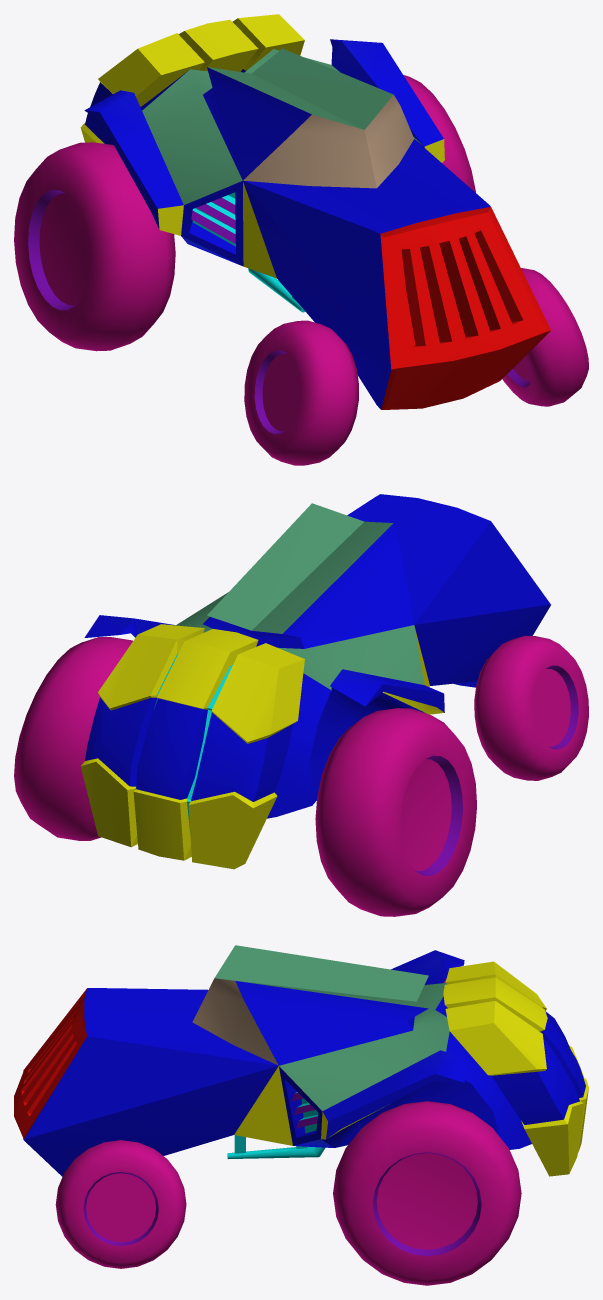
Rendered from RN_NoCrane_Hologram.fbx.
The picture shows the model from 3 angles, top to bottom: view 1: azimuth 30°, elevation 25°; view 2: azimuth 150°, elevation 25°; view 3: azimuth 270°, elevation 25°; orthographic projection. The views are drawn at different scales.
Parts seen in each view (by area): view 1: RN_NoCrane_Hologram; view 2: RN_NoCrane_Hologram; view 3: RN_NoCrane_Hologram.
Part boxes in pixels (box(x1,y1,x2,y2)): RN_NoCrane_Hologram: box(14, 14, 588, 465); RN_NoCrane_Hologram: box(14, 494, 588, 916); RN_NoCrane_Hologram: box(14, 945, 588, 1285).
Bounding box in the file's own units: 143 × 203 × 97.1.
